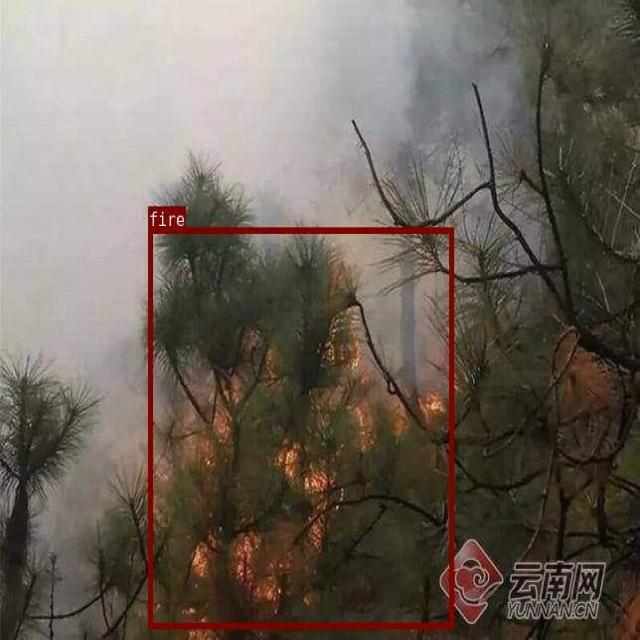fire: (148, 227, 453, 628)
